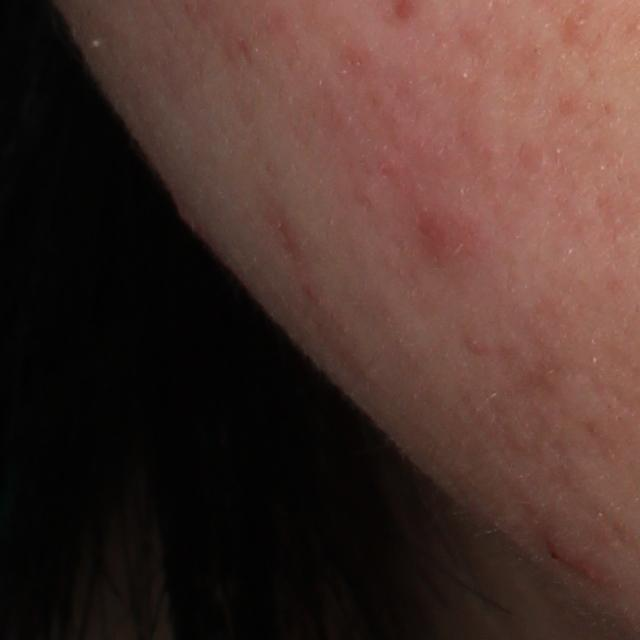papule: (411, 192, 490, 274), (540, 525, 602, 580)
